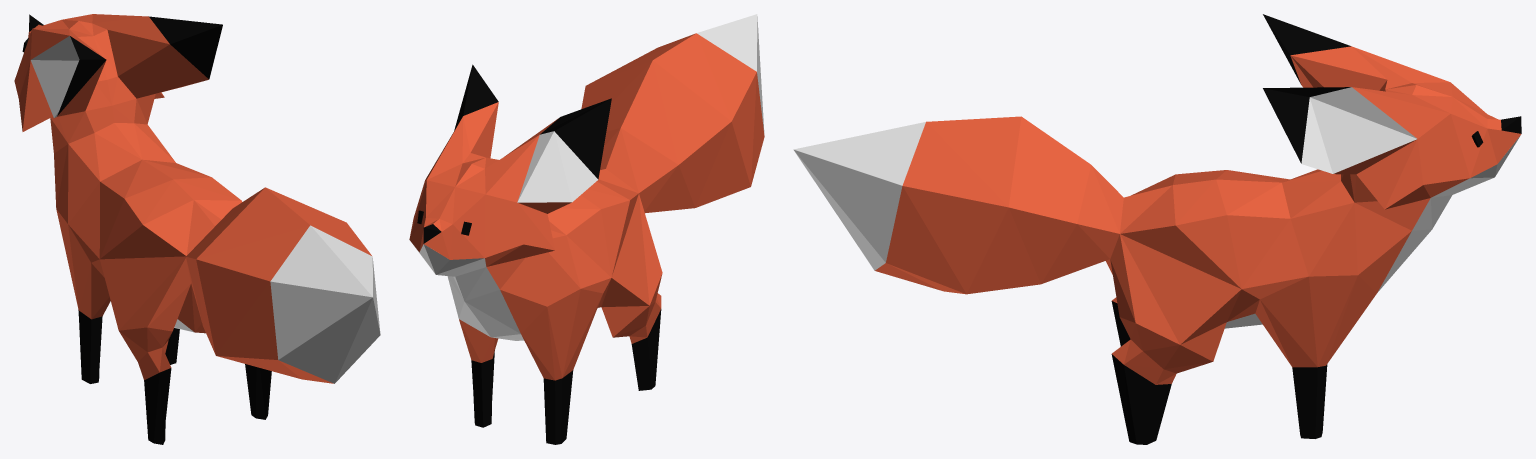
File: FloofFox.dae
3 renders of one model, left to right at view 1: azimuth 30°, elevation 25°; view 2: azimuth 150°, elevation 25°; view 3: azimuth 270°, elevation 25°, orthographic. The views are drawn at different scales.
Visible parts, largest first — view 1: Floof; view 2: Floof; view 3: Floof.
Part boxes in pixels (x1,y1,x2,y2): Floof: (14,14,380,444); Floof: (409,14,764,444); Floof: (793,14,1521,444).
Bounding box in the file's own units: 0.7094 × 2.77 × 1.53.
